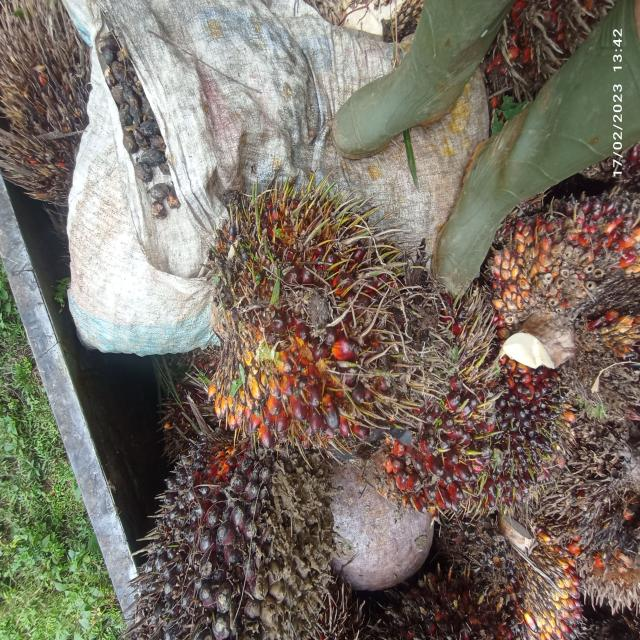fraksi 00: (103, 423, 329, 640), (495, 166, 640, 393)
fraksi 1: (178, 161, 394, 486), (378, 266, 494, 546), (466, 300, 578, 526)
